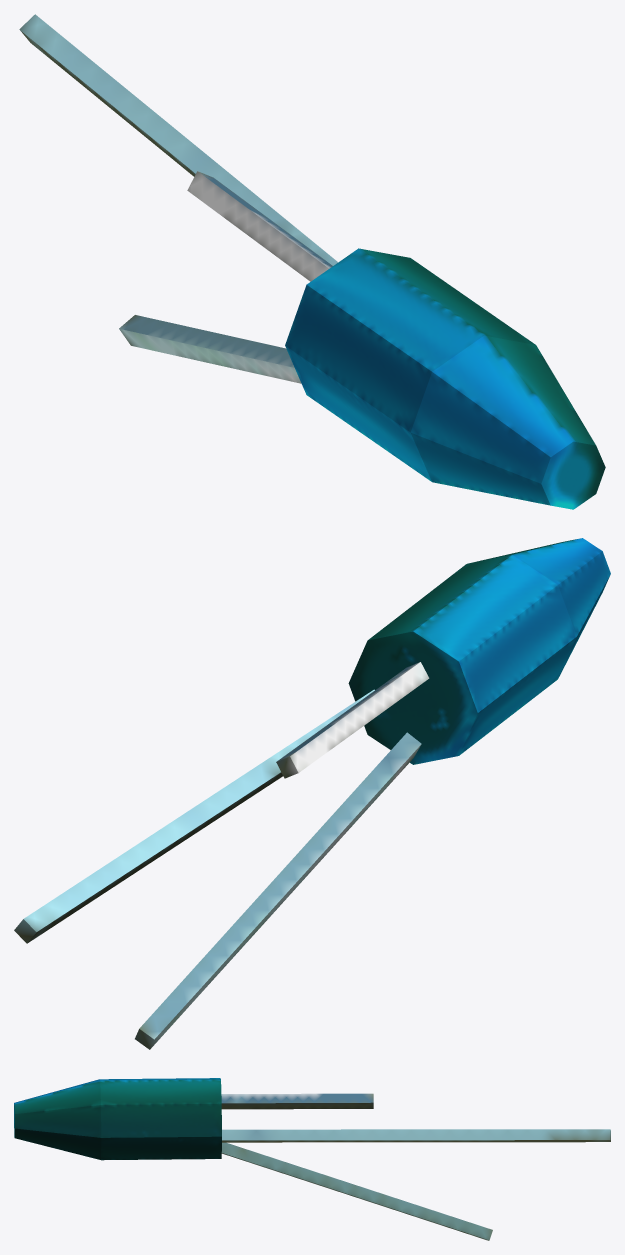
3 views of the same model, one above another, from view 1: azimuth 30°, elevation 25°; view 2: azimuth 150°, elevation 25°; view 3: azimuth 270°, elevation 25° (orthographic). The views are drawn at different scales.
Parts seen in each view (by area): view 1: Bala_Cylinder.003, Estela_1_Cube.006, Estela_3_Cube.008, Estela_2_Cube.007; view 2: Bala_Cylinder.003, Estela_3_Cube.008, Estela_1_Cube.006, Estela_2_Cube.007; view 3: Bala_Cylinder.003, Estela_1_Cube.006, Estela_3_Cube.008, Estela_2_Cube.007.
Boxes of the visible parts, box(x1,y1,x2,y2) form: Bala_Cylinder.003: box(285, 248, 605, 509); Estela_1_Cube.006: box(19, 14, 337, 265); Estela_3_Cube.008: box(119, 315, 301, 383); Estela_2_Cube.007: box(187, 171, 332, 281); Bala_Cylinder.003: box(348, 538, 610, 764); Estela_3_Cube.008: box(135, 732, 421, 1049); Estela_1_Cube.006: box(14, 689, 374, 943); Estela_2_Cube.007: box(276, 662, 429, 778); Bala_Cylinder.003: box(14, 1078, 221, 1160); Estela_1_Cube.006: box(222, 1129, 610, 1142); Estela_3_Cube.008: box(221, 1142, 492, 1240); Estela_2_Cube.007: box(221, 1093, 373, 1109).
Size of what is drawn, in the model's own units: 0.2897 by 0.5448 by 1.94.
